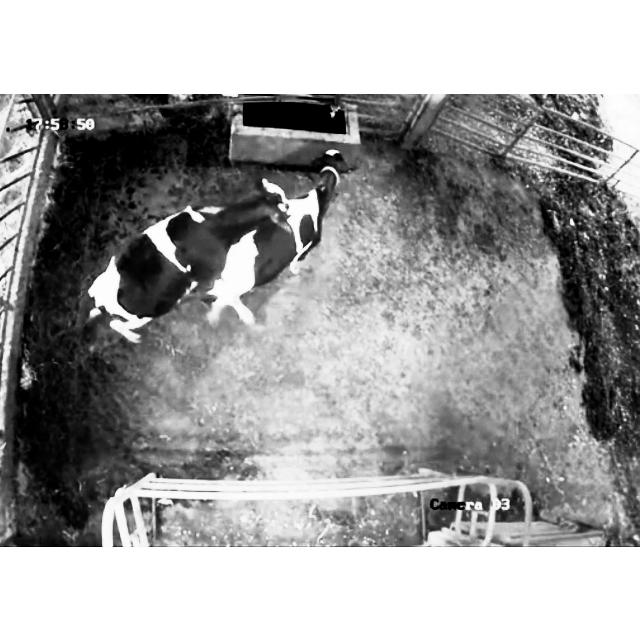ride: (68, 176, 300, 354)
